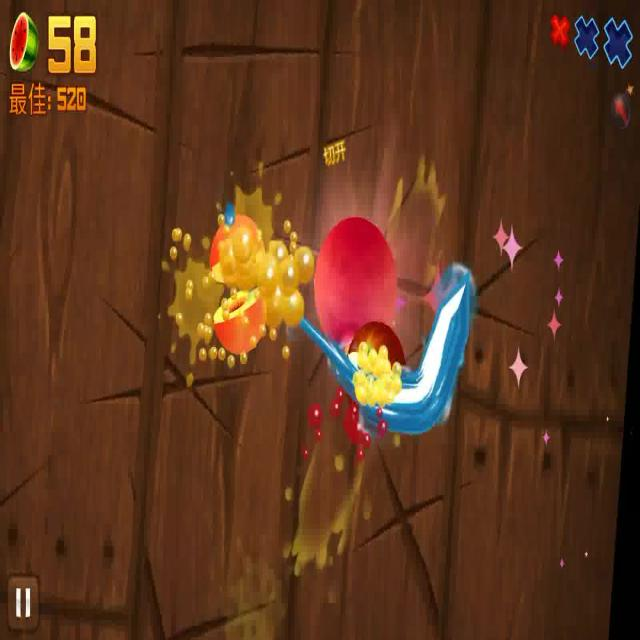fruit: (312, 214, 397, 349), (346, 322, 410, 382), (203, 218, 264, 272), (210, 296, 268, 351)
